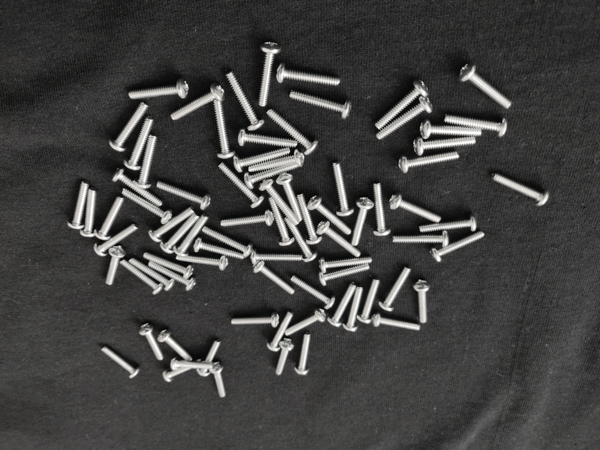longscrew: (373, 79, 431, 132), (457, 61, 514, 110), (265, 108, 321, 156), (376, 95, 434, 141), (226, 70, 265, 131), (169, 82, 226, 122), (108, 100, 151, 153), (111, 167, 166, 208), (218, 162, 265, 209), (491, 172, 552, 206), (289, 89, 355, 120), (259, 179, 301, 227), (307, 194, 353, 237), (121, 188, 174, 225), (429, 230, 486, 264), (123, 115, 157, 172), (257, 40, 284, 108), (378, 263, 414, 314), (316, 220, 362, 259), (389, 191, 443, 224), (156, 181, 213, 212), (148, 207, 195, 244), (160, 213, 201, 255), (244, 162, 303, 191), (202, 227, 255, 259), (290, 274, 337, 310), (93, 222, 141, 257), (283, 217, 319, 263), (232, 146, 291, 174), (213, 92, 237, 160), (120, 259, 165, 295), (172, 215, 210, 257), (247, 148, 306, 175), (146, 262, 199, 292), (443, 114, 509, 138), (127, 77, 191, 101), (128, 259, 176, 291), (252, 262, 297, 296), (276, 64, 342, 87), (296, 192, 324, 246), (133, 132, 159, 190), (398, 151, 460, 175), (94, 193, 125, 241), (142, 252, 195, 280), (267, 196, 296, 246), (331, 162, 356, 218), (100, 346, 141, 380), (327, 282, 357, 328), (419, 119, 484, 140), (284, 308, 328, 339), (276, 174, 304, 222), (157, 327, 194, 363), (412, 136, 478, 156), (318, 263, 371, 287), (66, 181, 91, 231), (266, 310, 295, 353), (193, 238, 247, 261), (418, 215, 480, 235), (357, 277, 382, 326), (238, 129, 299, 149), (372, 180, 393, 238), (351, 197, 375, 247), (391, 230, 451, 249), (319, 254, 373, 275), (138, 321, 165, 363), (342, 285, 365, 333), (196, 338, 223, 378), (372, 313, 422, 334), (162, 359, 204, 384), (249, 248, 303, 267), (219, 210, 274, 228), (176, 254, 230, 272), (80, 186, 98, 239), (104, 245, 126, 286), (413, 278, 432, 325), (294, 332, 313, 378), (275, 337, 296, 378), (230, 313, 281, 329), (171, 357, 216, 373), (210, 362, 228, 399)
